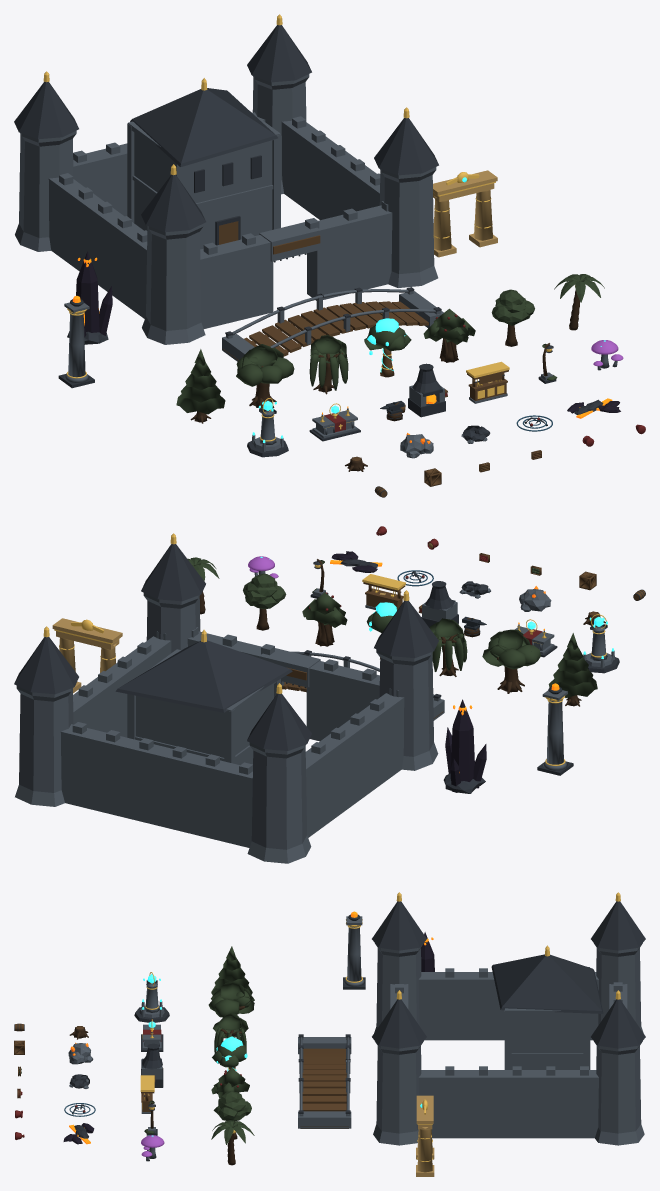
The model's file is world.glb.
3 renders of one model, top to bottom at view 1: azimuth 30°, elevation 25°; view 2: azimuth 150°, elevation 25°; view 3: azimuth 270°, elevation 25°, orthographic. The views are drawn at different scales.
Visible parts, largest first — view 1: Castle_WallLeft, Castle_KeepBody, Castle_KeepRoof, Castle_Tower_SW, Castle_WallRight, Castle_WallFrontRight, Castle_WallFrontLeft, Castle_Tower_SE, Castle_Tower_NW, Castle_WallBack, Castle_Tower_NE, Castle_Spire_SW (+11 smaller); view 2: Castle_WallBack, Castle_WallLeft, Castle_KeepRoof, Castle_Tower_NW, Castle_Tower_NE, Castle_KeepBody, Castle_Tower_SW, Castle_WallFrontLeft, Castle_WallRight, Castle_Spire_NE, Castle_Spire_NW, Castle_Spire_SW (+11 smaller); view 3: Castle_WallRight, Castle_WallLeft, Castle_KeepRoof, Castle_Tower_NE, Castle_Tower_SE, Castle_KeepBody, Castle_Tower_SW, Castle_Tower_NW, Castle_Spire_SE, Castle_Spire_SW, Castle_Spire_NE, Castle_Spire_NW (+7 smaller).
Part boxes in pixels (x1,y1,x2,y2): Castle_WallLeft: [48, 177, 147, 318]; Castle_KeepBody: [134, 132, 272, 249]; Castle_KeepRoof: [130, 88, 277, 167]; Castle_Tower_SW: [142, 223, 205, 344]; Castle_WallRight: [281, 120, 379, 220]; Castle_WallFrontRight: [307, 205, 392, 300]; Castle_WallFrontLeft: [200, 235, 273, 328]; Castle_Tower_SE: [379, 167, 438, 287]; Castle_Tower_NW: [15, 130, 76, 251]; Castle_WallBack: [73, 112, 265, 216]; Castle_Tower_NE: [252, 74, 309, 194]; Castle_Spire_SW: [141, 174, 205, 232]; Castle_WallBack: [60, 724, 252, 847]; Castle_WallLeft: [305, 693, 404, 837]; Castle_KeepRoof: [115, 640, 292, 712]; Castle_Tower_NW: [247, 742, 311, 863]; Castle_Tower_NE: [15, 686, 73, 806]; Castle_KeepBody: [136, 684, 273, 765]; Castle_Tower_SW: [376, 649, 438, 770]; Castle_WallFrontLeft: [306, 661, 379, 741]; Castle_WallRight: [73, 636, 171, 737]; Castle_Spire_NE: [14, 637, 78, 694]; Castle_Spire_NW: [247, 693, 311, 750]; Castle_Spire_SW: [374, 600, 438, 658]; Castle_WallRight: [418, 1070, 598, 1138]; Castle_WallLeft: [418, 972, 598, 1040]; Castle_KeepRoof: [491, 954, 603, 1013]; Castle_Tower_NE: [594, 1041, 644, 1145]; Castle_Tower_SE: [373, 1041, 423, 1145]; Castle_KeepBody: [511, 1014, 583, 1069]; Castle_Tower_SW: [374, 943, 423, 1032]; Castle_Tower_NW: [594, 943, 643, 1032]; Castle_Spire_SE: [372, 999, 426, 1048]; Castle_Spire_SW: [372, 901, 426, 950]; Castle_Spire_NE: [591, 999, 645, 1048]; Castle_Spire_NW: [591, 901, 645, 950].
Size of the model in its own units: 36.22 by 12.77 by 49.07.
